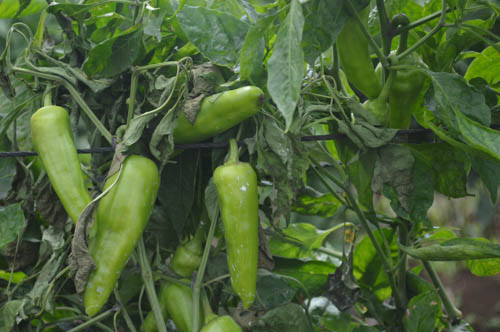ChiliPepper: (78, 155, 160, 321), (34, 105, 96, 238), (215, 163, 259, 309), (169, 84, 266, 147), (147, 247, 197, 327), (338, 21, 375, 94), (391, 67, 422, 137), (166, 282, 200, 331)
